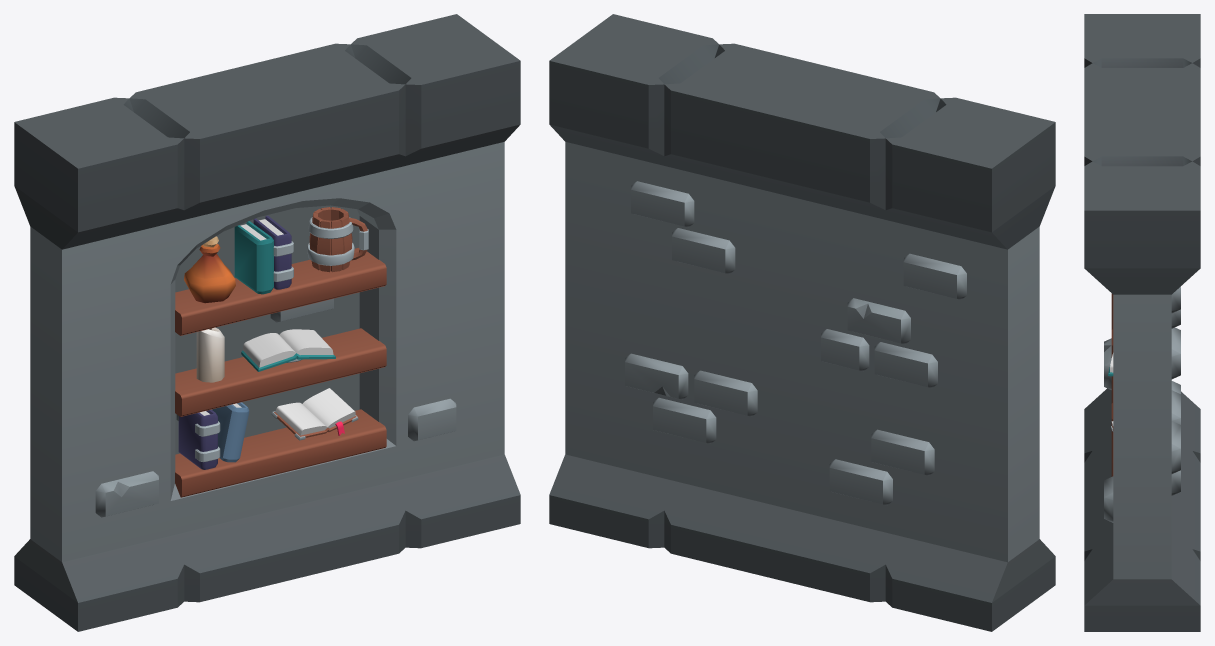
File: wall_alcove_A.glb
3 renders of one model, left to right at view 1: azimuth 30°, elevation 25°; view 2: azimuth 150°, elevation 25°; view 3: azimuth 270°, elevation 25°, orthographic. The views are drawn at different scales.
Visible parts, largest first — view 1: Item; view 2: Item; view 3: Item.
Boxes of the visible parts, x1,y1,x2,y2 form: Item: (14, 14, 520, 631); Item: (549, 14, 1055, 631); Item: (1084, 14, 1200, 631).
Size of the model in its own units: 4 by 4 by 1.
Materials: 5 (5 with a texture image).
